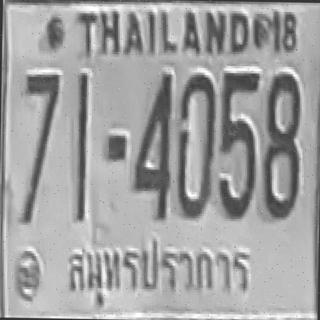N00: (175, 72, 215, 213)
N01: (75, 71, 88, 200)
N04: (131, 69, 171, 217)
N05: (216, 71, 258, 218)
N07: (18, 72, 58, 223), (21, 73, 59, 210), (24, 73, 59, 174), (24, 72, 59, 163)
N08: (260, 71, 300, 217)
P57: (66, 230, 254, 313)
